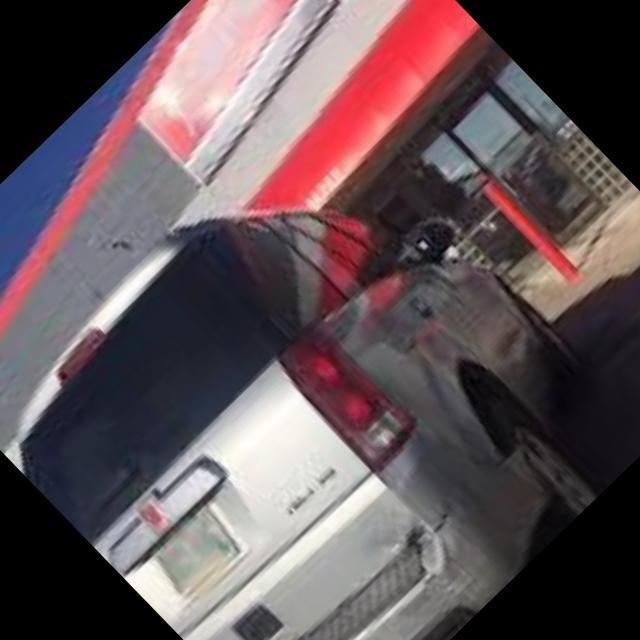crack: (388, 499, 498, 595)
